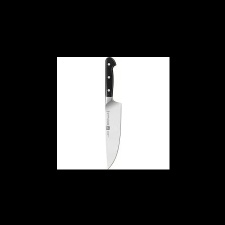k1: (103, 91, 123, 169)
